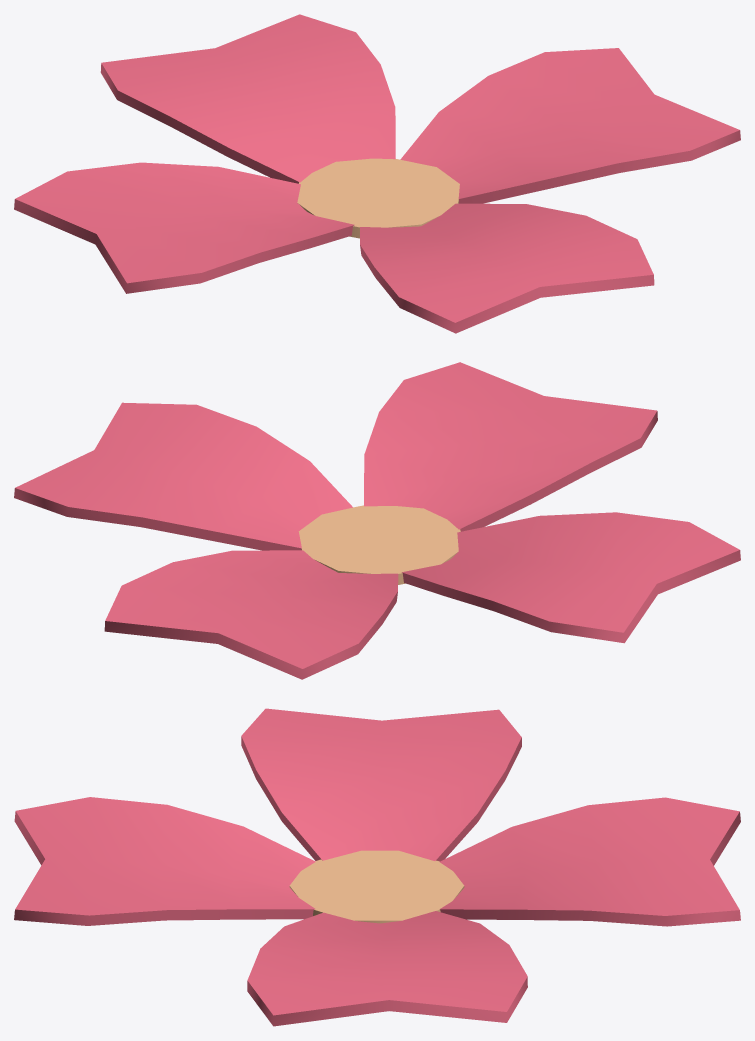
Rendered from flor03.fbx.
3 renders of one model, top to bottom at view 1: azimuth 30°, elevation 25°; view 2: azimuth 150°, elevation 25°; view 3: azimuth 270°, elevation 25°, orthographic. The views are drawn at different scales.
Parts seen in each view (by area): view 1: flor03; view 2: flor03; view 3: flor03.
Part boxes in pixels (x1=…): flor03: x1=14, y1=14, x2=740, y2=333; flor03: x1=14, y1=362, x2=740, y2=679; flor03: x1=14, y1=708, x2=740, y2=1026.
Size of the model in its own units: 15.15 by 0.9239 by 15.12.
